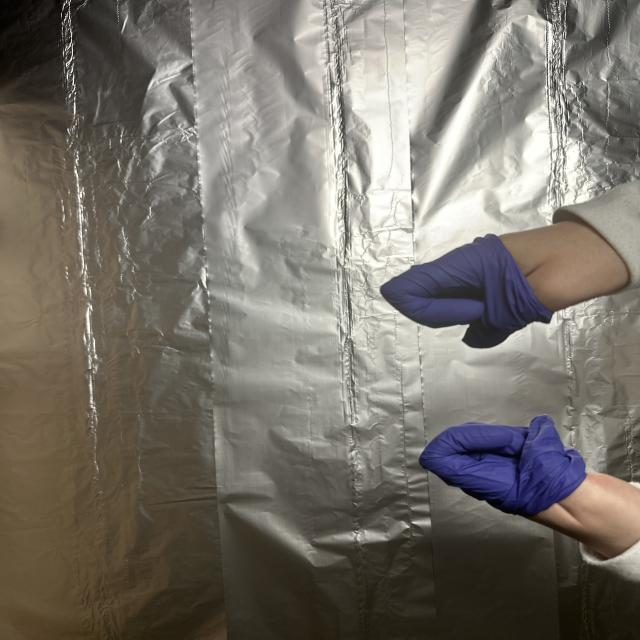glove_partial: (382, 217, 631, 350), (421, 414, 640, 560)
